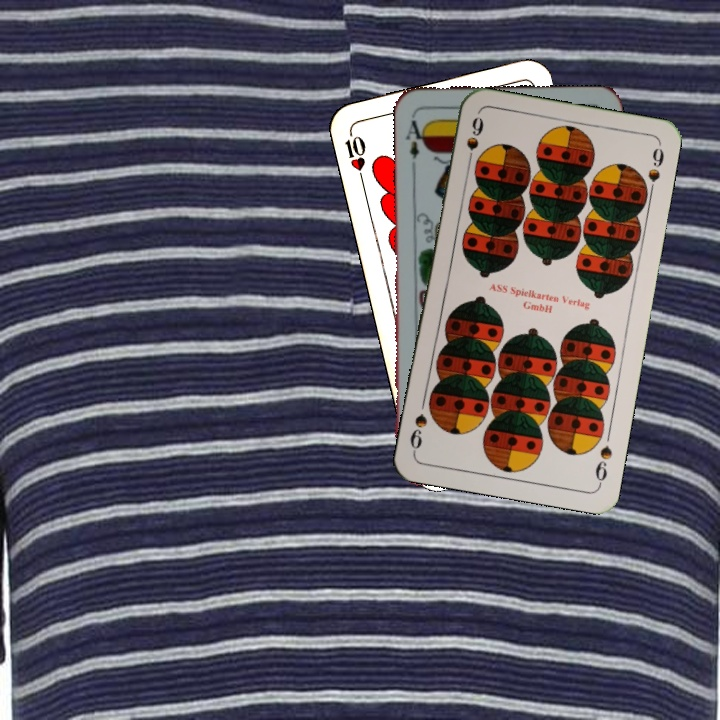EA: (401, 111, 428, 162)
H10: (341, 126, 368, 185)
S9: (462, 112, 486, 171), (591, 441, 615, 488)
